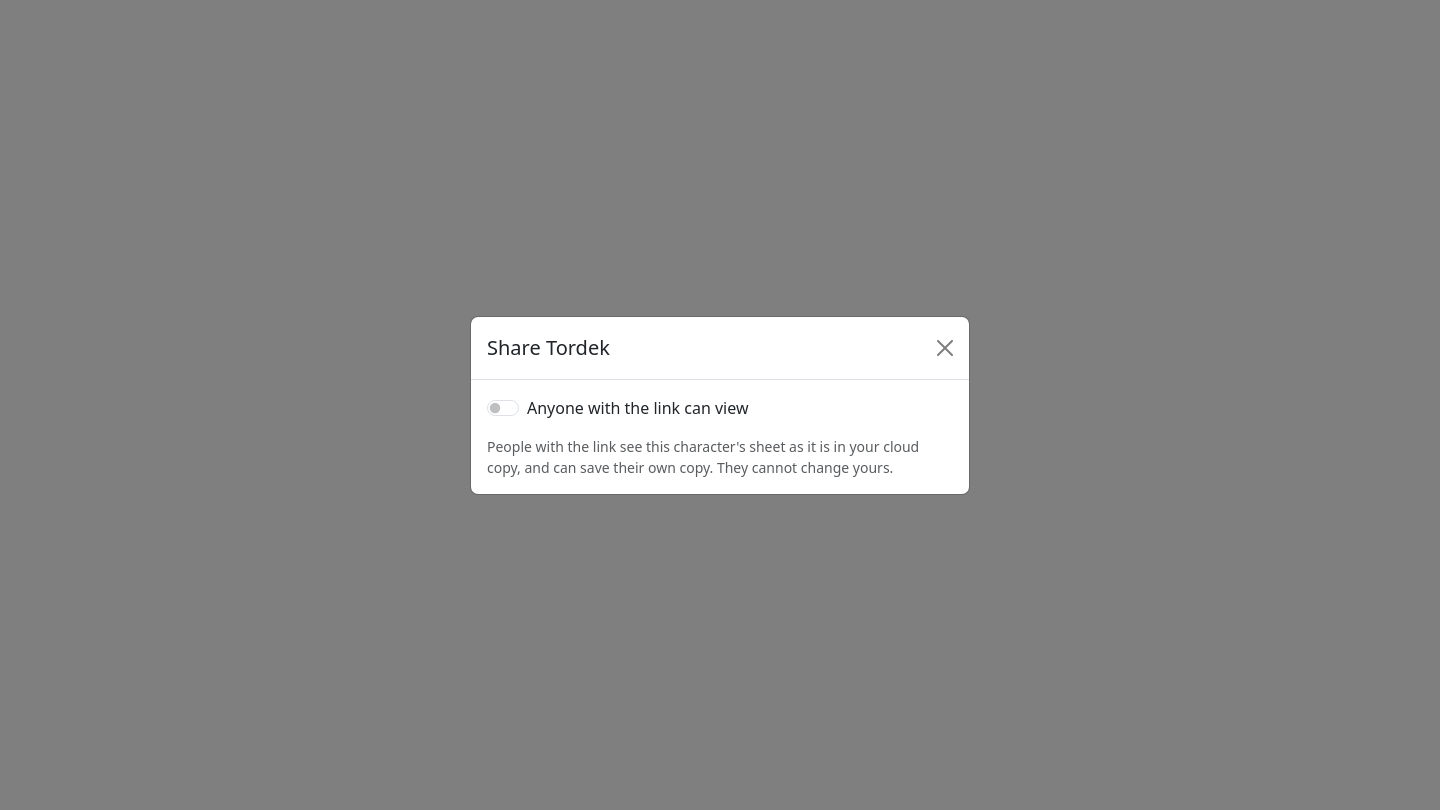
Test case: the Share window › says why a link could not be made, in plain words
Click the switch: (503, 408) [487, 400, 519, 416]
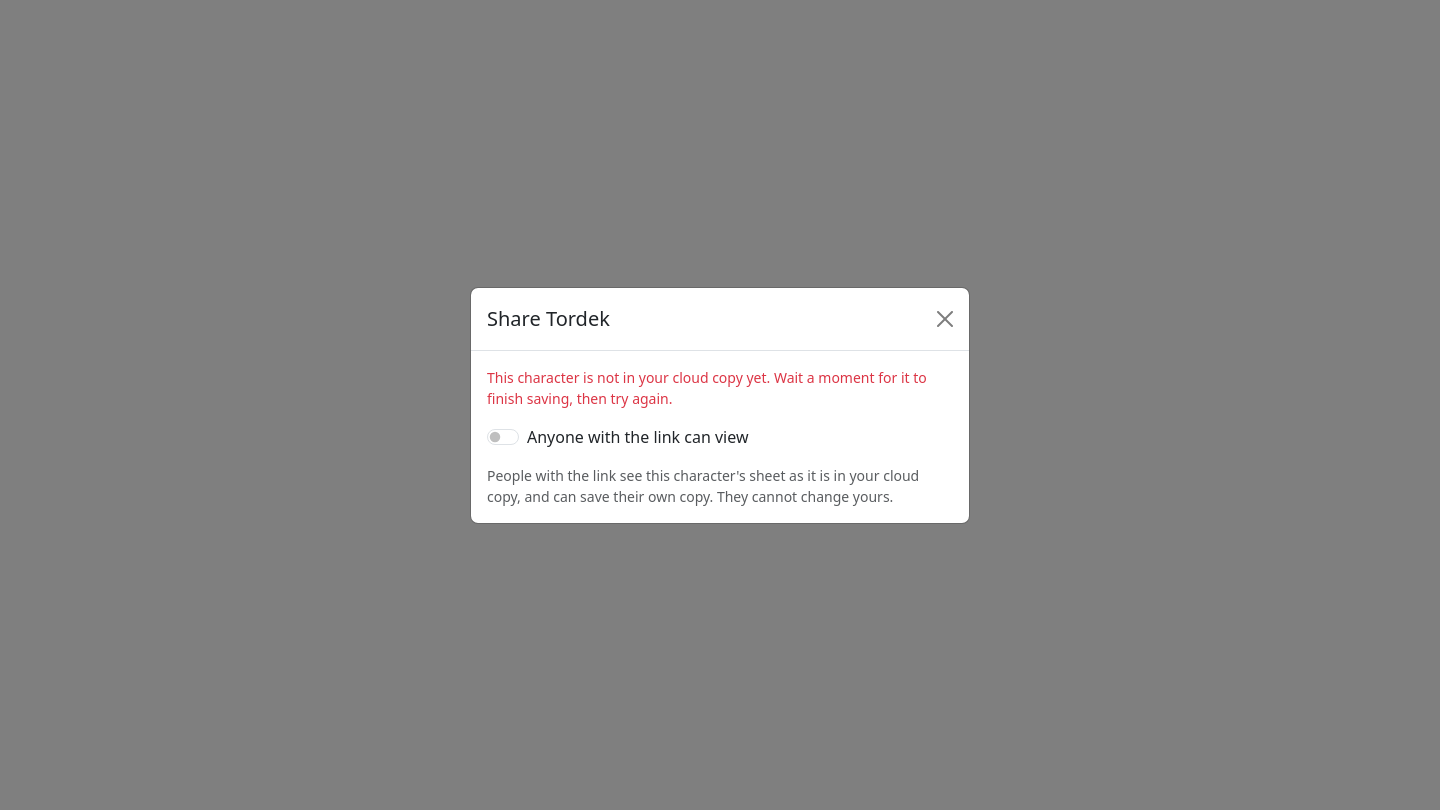
Expected: the message shows "not in your cloud copy yet", [487, 368, 927, 408]
Click the switch: (503, 436) [487, 428, 519, 444]
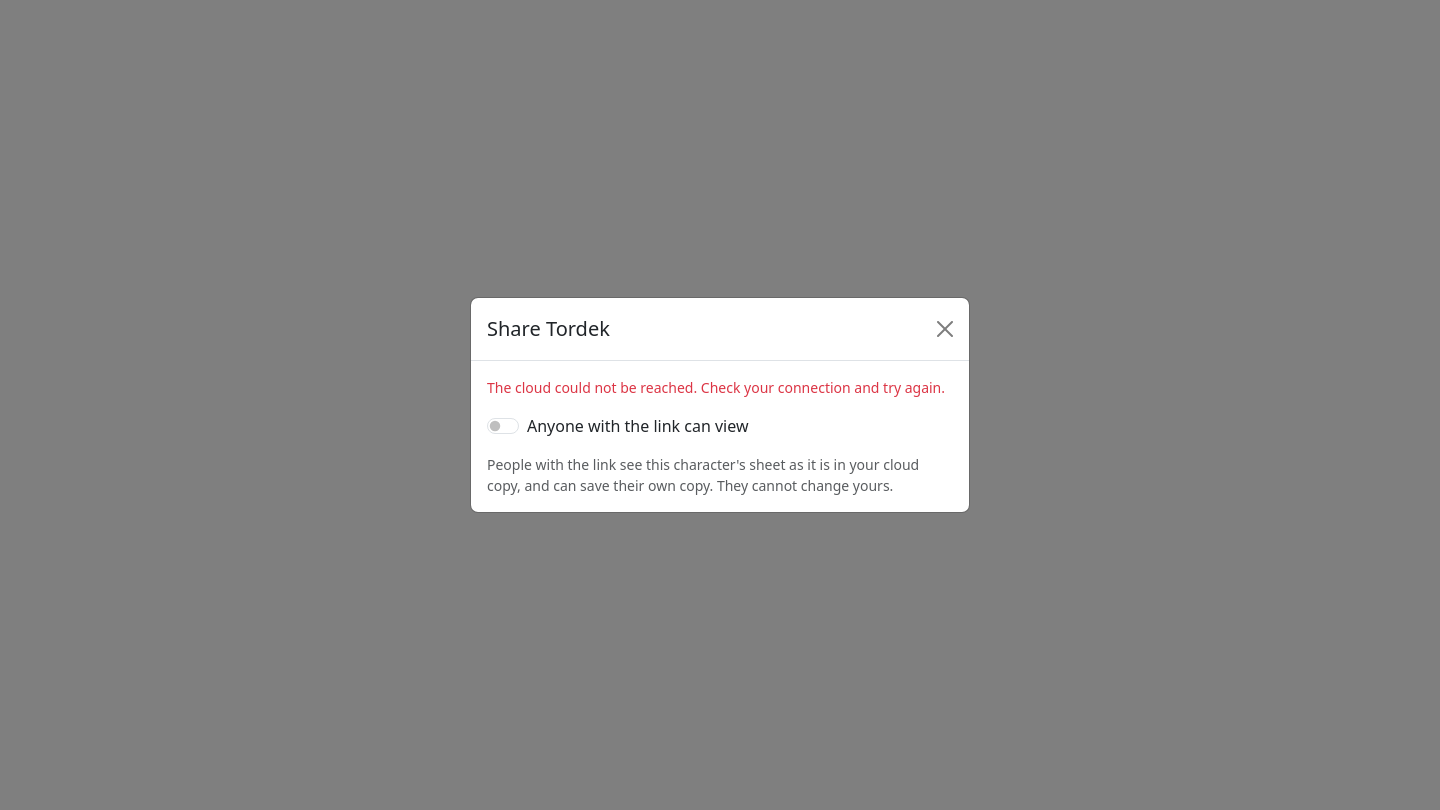
Expected: the message shows "could not be reached", [487, 378, 945, 397]
Click the switch: (503, 426) [487, 418, 519, 434]
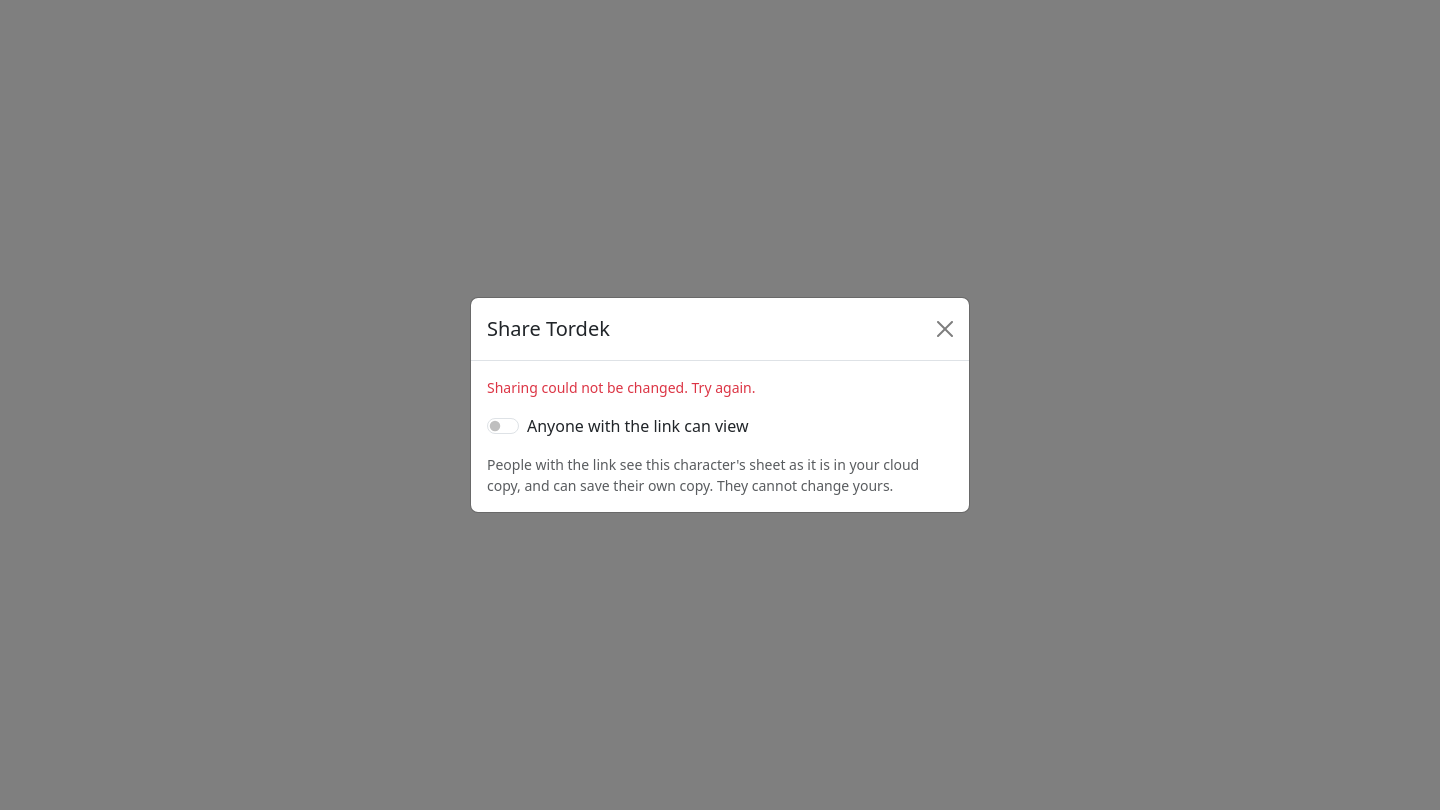
Expected: the message shows "could not be changed", [487, 378, 756, 397]
